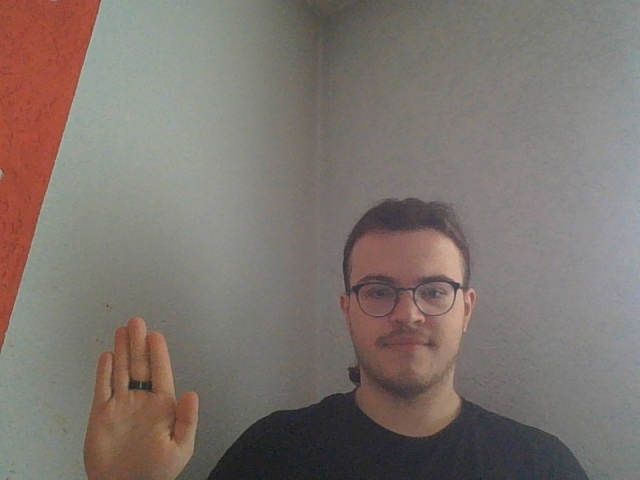Hello: (82, 316, 200, 480)
